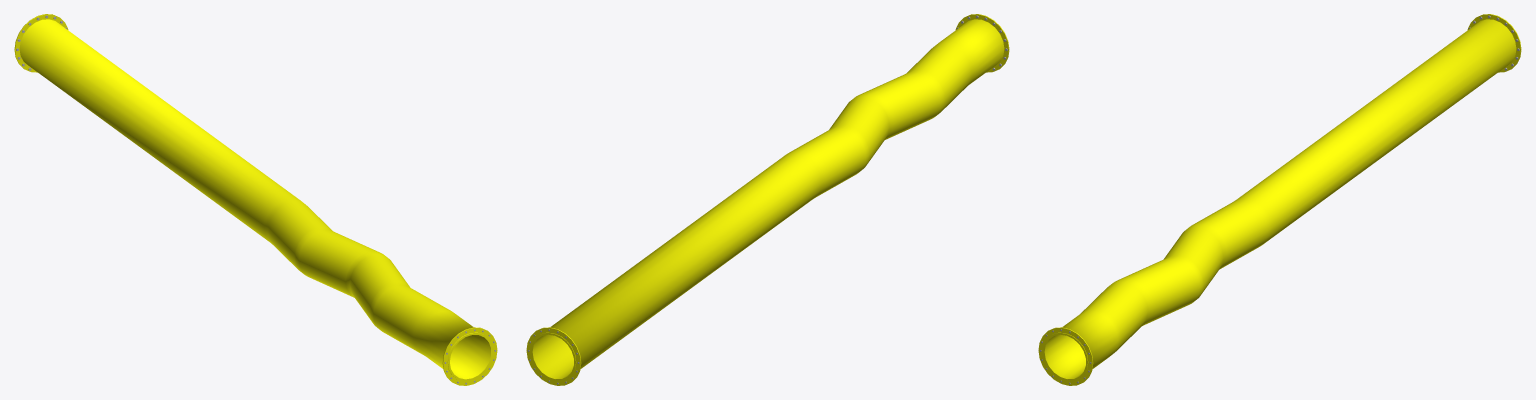
Rendered from warped.dae.
3 renders of one model, left to right at view 1: azimuth 30°, elevation 25°; view 2: azimuth 150°, elevation 25°; view 3: azimuth 330°, elevation 25°, orthographic.
Parts seen in each view (by area): view 1: segment8_warped; view 2: segment8_warped; view 3: segment8_warped.
Part boxes in pixels (x1,y1,x2,y2): segment8_warped: (14, 14, 497, 385); segment8_warped: (526, 14, 1009, 385); segment8_warped: (1038, 14, 1521, 385).
Bounding box in the file's own units: 0.8008 × 10 × 0.7241.
